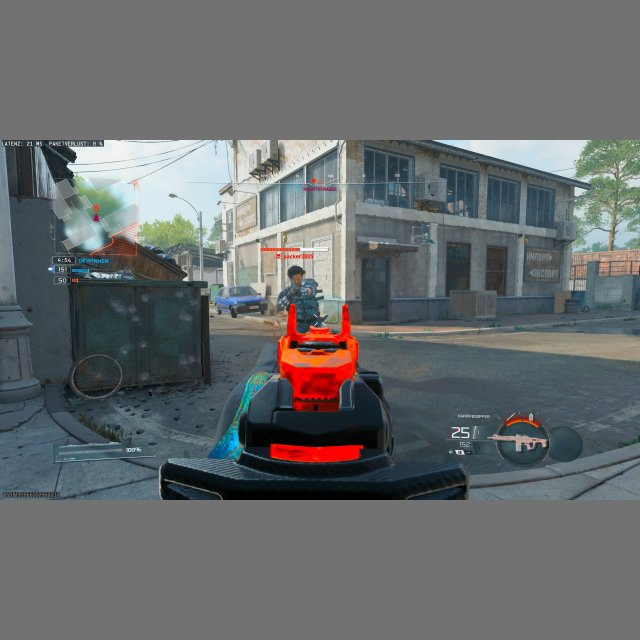head: (287, 265, 305, 285)
player: (276, 265, 325, 335)
